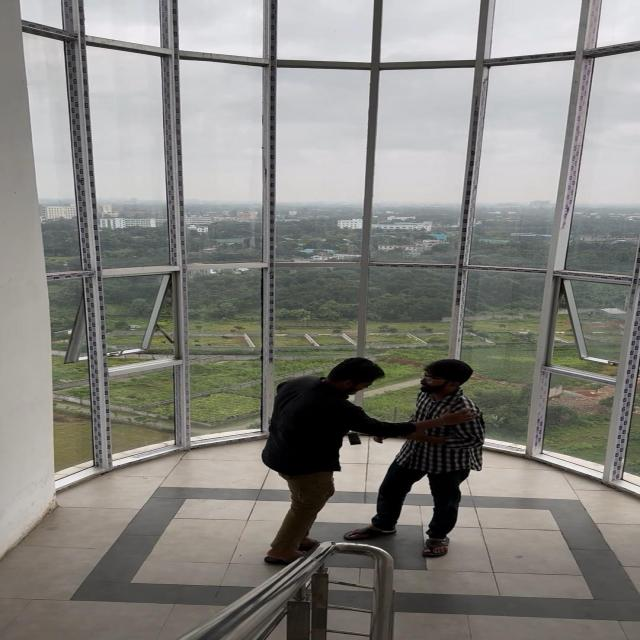fight: (217, 322, 505, 567)
